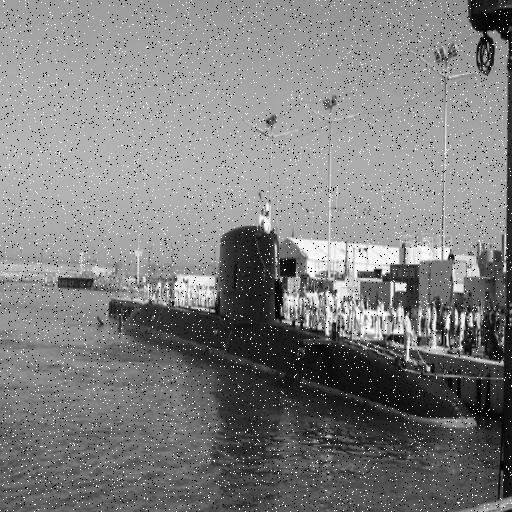submarine: (95, 223, 480, 429)
